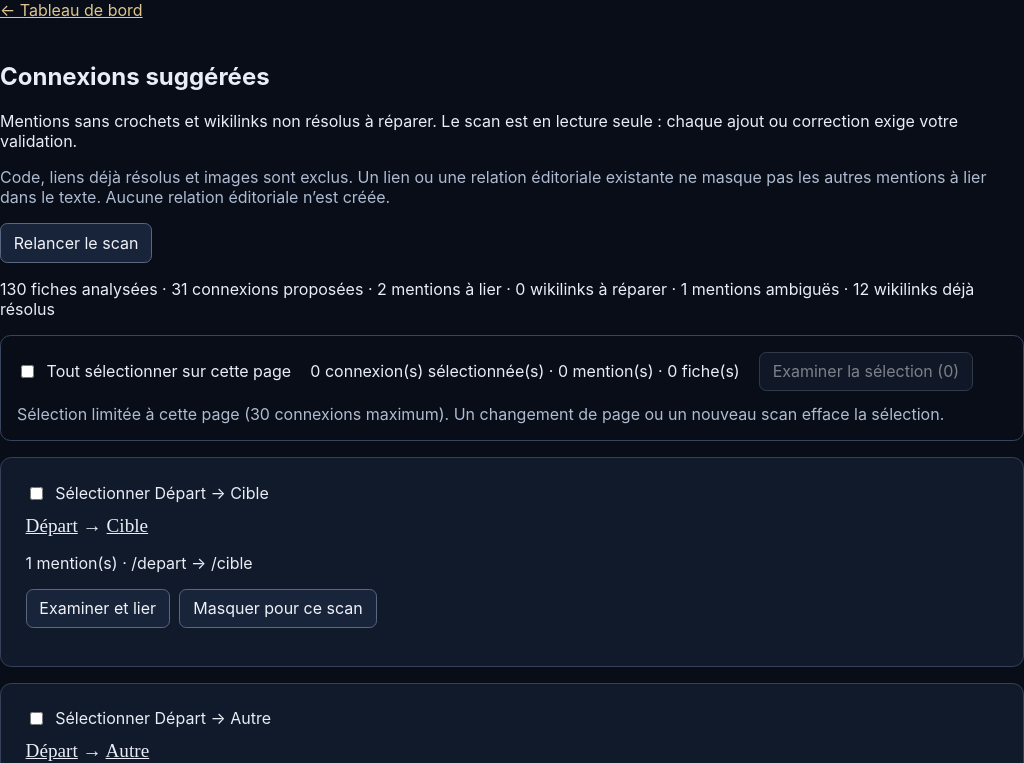
Scenario: scan des connexions › clears selection on pagination and rescan, and never applies hidden pages
Expected: the text "130 fiches analysées" is shown, x1=0 y1=279 x2=1023 y2=319
Click the checkbox labelled "Tout sélectionner sur cette page": point(28, 372) x1=21 y1=365 x2=34 y2=378
(page scrolled)
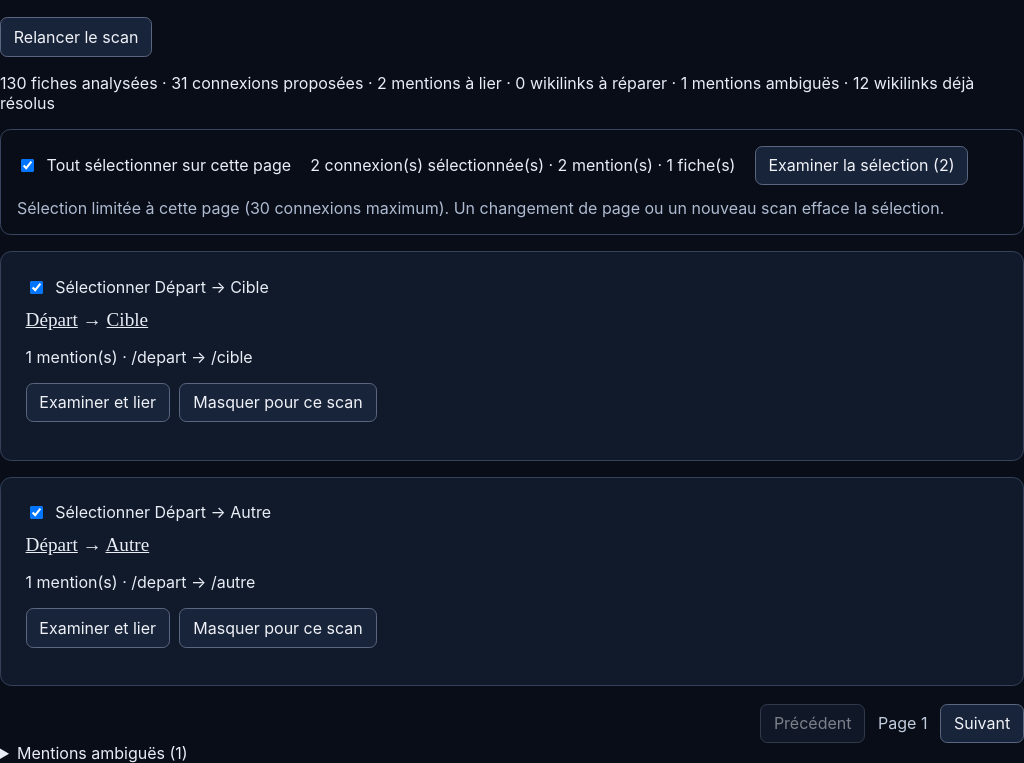
Click the button "Suivant": point(982, 723) x1=940 y1=704 x2=1023 y2=743
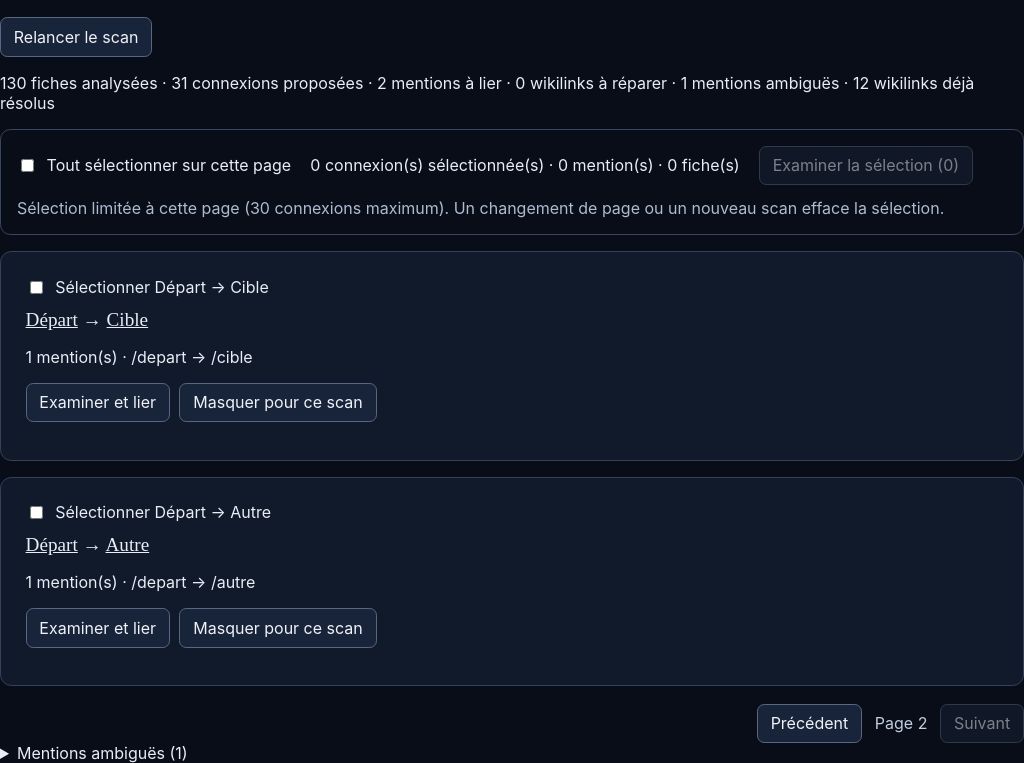
Now the text "Page 2" is shown, box x1=875 y1=713 x2=927 y2=733
Now the button "Examiner la sélection (0)" is disabled, box x1=759 y1=146 x2=973 y2=185
Click the checkbox labelled "Tout sélectionner sur cette page": point(28, 166) x1=21 y1=159 x2=34 y2=172
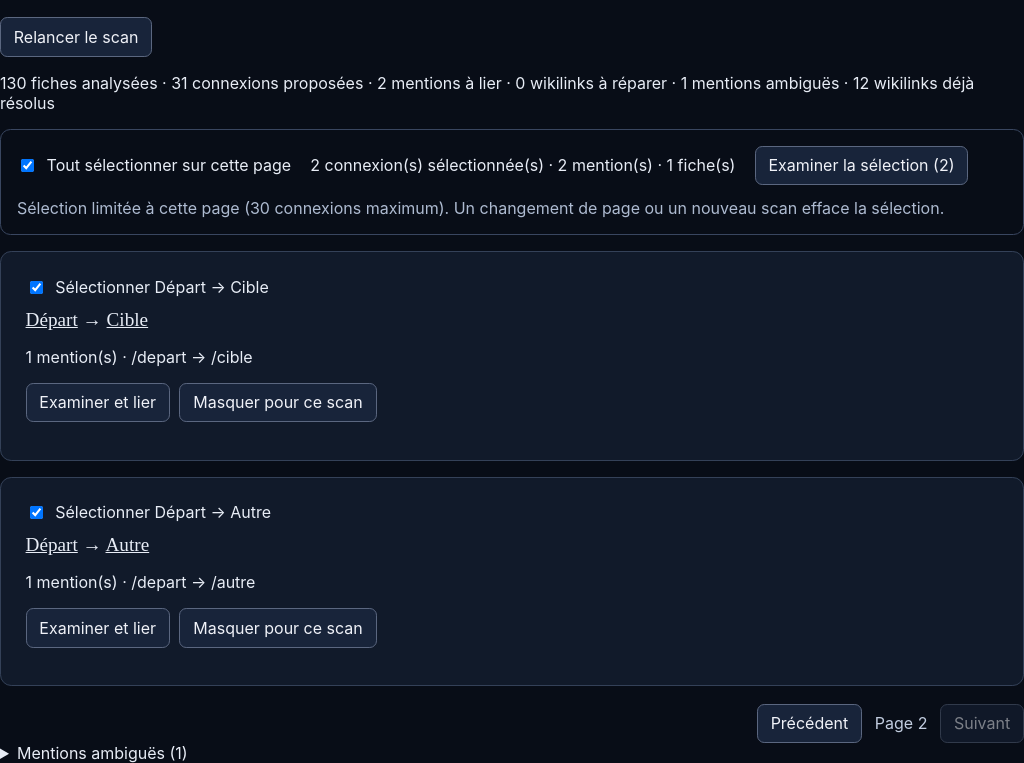
Click the button "Relancer le scan": point(76, 37) x1=0 y1=17 x2=152 y2=57
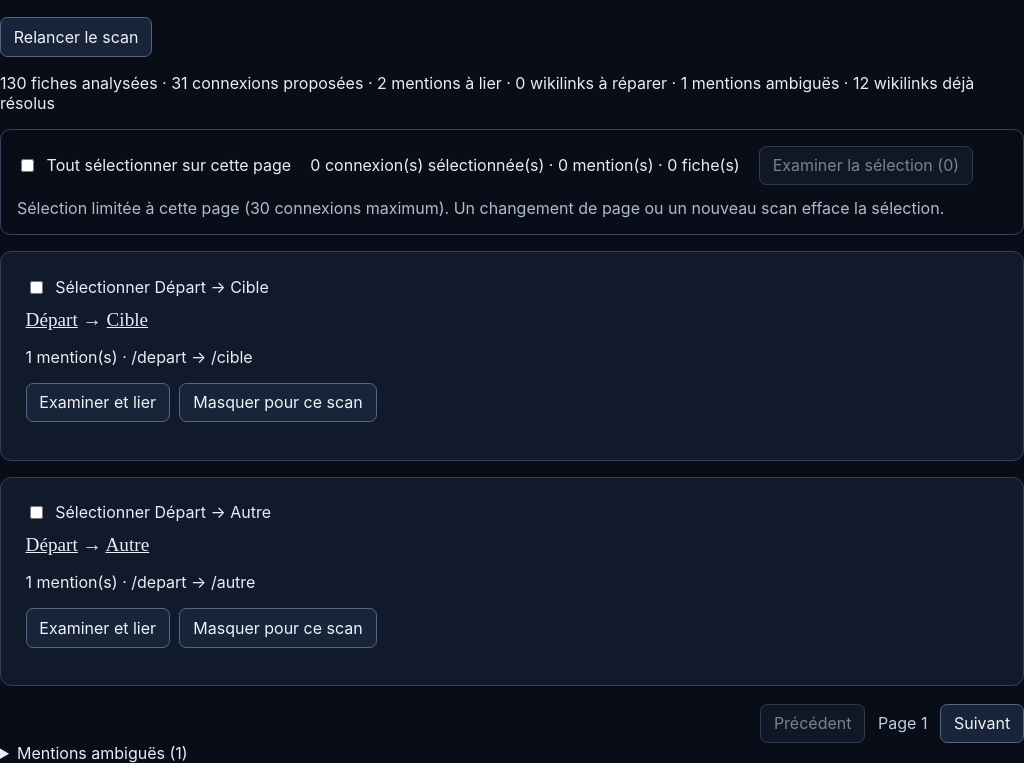
Now the checkbox labelled "Tout sélectionner sur cette page" is not checked, box x1=21 y1=159 x2=34 y2=172
Now the text "Page 1" is shown, box x1=878 y1=713 x2=928 y2=733
